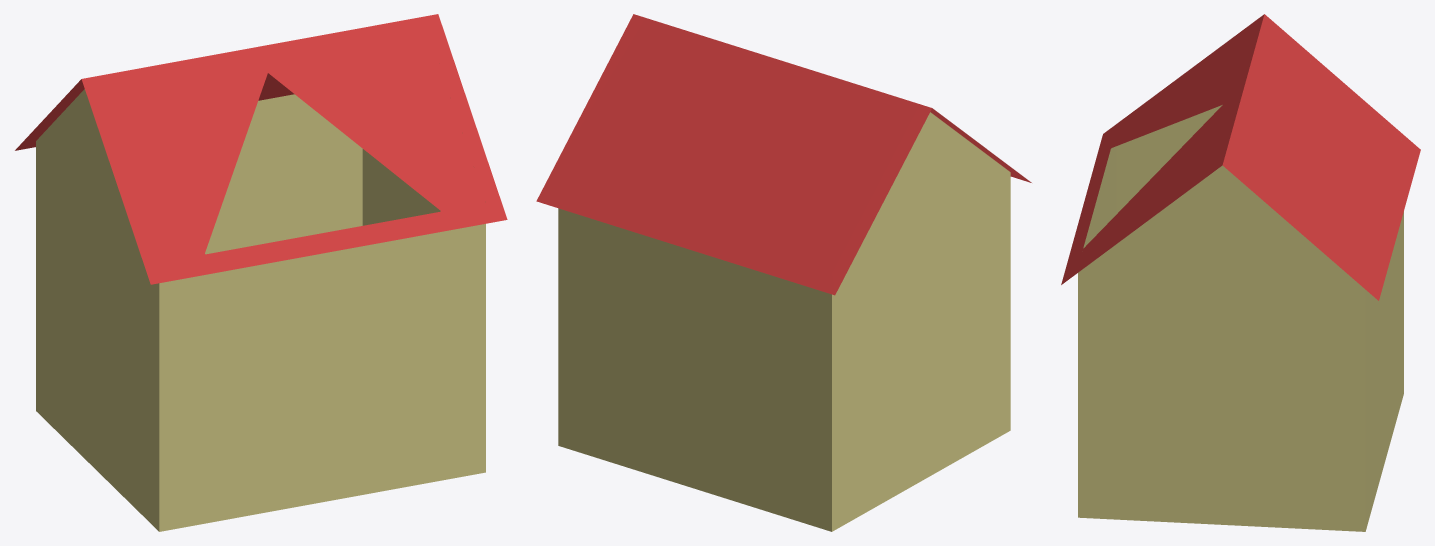
3 renders of one model, left to right at view 1: azimuth 30°, elevation 25°; view 2: azimuth 150°, elevation 25°; view 3: azimuth 270°, elevation 25°, orthographic. The views are drawn at different scales.
Size of the model in its own units: 13.04 by 11.87 by 13.31.
